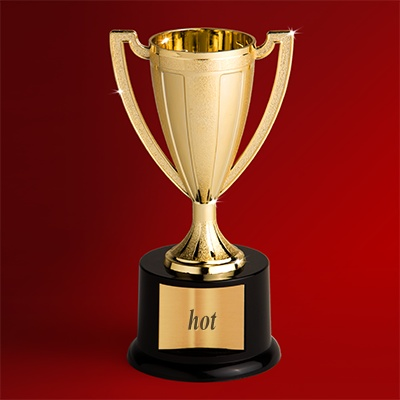trophy: (105, 24, 303, 385)
